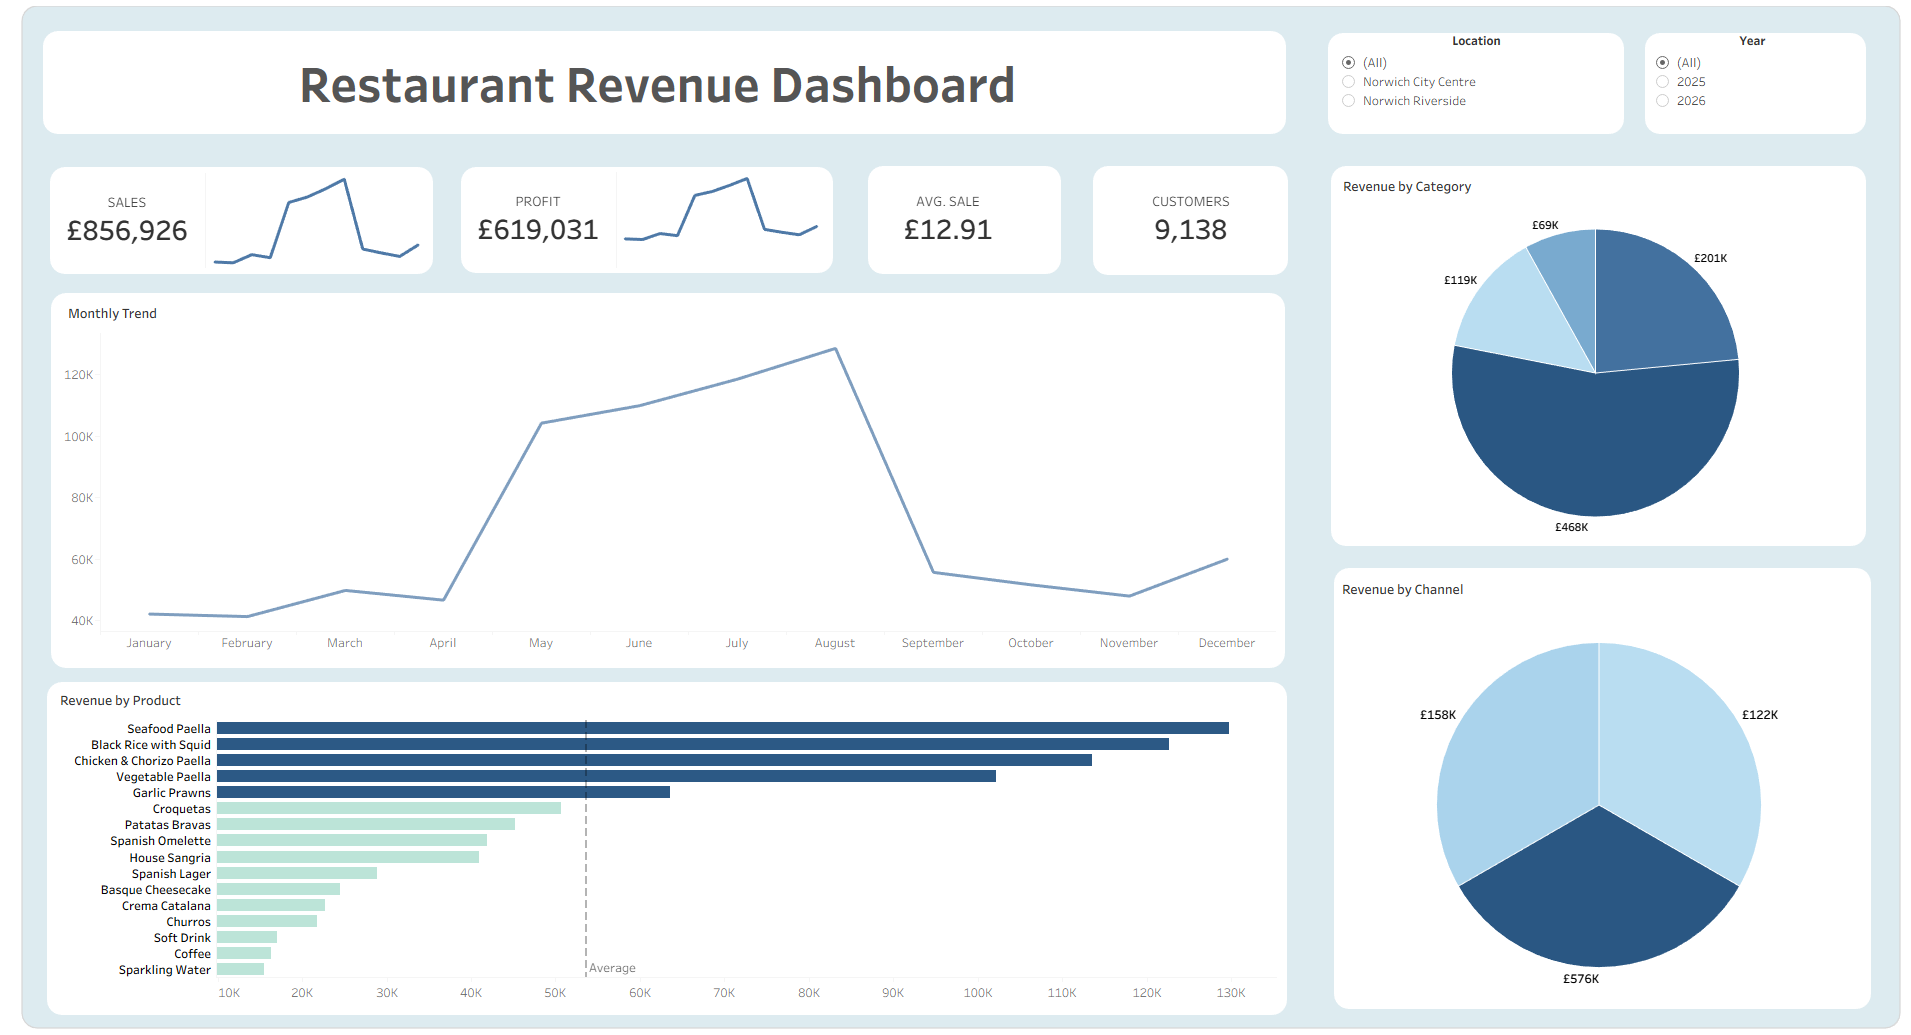

What the dashboard file says about the page in this screenshot:
{"tool":"tableau","page":{"name":"Dashboard 1","canvas":[1000,1000],"units":"permille","ordinal":0},"visuals":[{"type":"worksheet","title":"Dash Back","mark":"Automatic","box":[4.7,8.9,990.6,982.1]},{"type":"filter","title":"Sheet 10","param":"[federated.0envmzm1w9pdoq1bfpfxa0l7rede].[none:location:nk]","box":[695.1,32.5,150.4,99.3]},{"type":"filter","title":"Sheet 10","param":"[federated.0envmzm1w9pdoq1bfpfxa0l7rede].[yr:order_date:ok]","box":[859,32.5,111.2,99.3]},{"type":"text","box":[25.2,49.2,637.8,68.9]},{"type":"worksheet","title":"PROFIT","mark":"Automatic","box":[243.4,165.3,86.6,99.4]},{"type":"worksheet","title":"PRF. VIS","mark":"Line","rows":["gross_profit"],"cols":["order_date"],"box":[330,165.3,103.6,99.4]},{"type":"worksheet","title":"SALES KPI","mark":"Automatic","box":[29.3,166.3,86.6,98.4]},{"type":"worksheet","title":"REV. VIS","mark":"Line","rows":["revenue"],"cols":["order_date"],"box":[115.9,166.3,110.5,98.4]},{"type":"worksheet","title":"AVG SALE","mark":"Automatic","box":[456.4,166.3,91.9,97.4]},{"type":"worksheet","title":"CAT PIE","mark":"Pie","box":[696.9,166.3,271.5,357.3]},{"type":"worksheet","title":"CUSTOMERS","mark":"Automatic","box":[574,169.3,96,90.5]},{"type":"worksheet","title":"Sheet 10","mark":"Line","rows":["revenue"],"cols":["month"],"box":[32.8,287.4,635.5,349.4]},{"type":"worksheet","title":"Sheet 11","mark":"Pie","box":[696.3,550.2,276.2,412.4]},{"type":"worksheet","title":"PRO. REV","mark":"Bar","rows":["product"],"cols":["revenue"],"box":[28.7,656.5,640.1,312]}]}

Visuals, with their boxes on the dashboard's canvas, which has no fixed pixel size, in thousandths of its width and height (x1, y1, x2, y2). These are canvas units, not pixel positions in the 1911x1035 screenshot, which may show the page scaled, cropped or inside an application window:
"Dash Back" worksheet: [5,9,995,991]
"Sheet 10" filter: [695,32,846,132]
"Sheet 10" filter: [859,32,970,132]
text: [25,49,663,118]
"PROFIT" worksheet: [243,165,330,265]
"PRF. VIS" worksheet (Line marks): [330,165,434,265]
"SALES KPI" worksheet: [29,166,116,265]
"REV. VIS" worksheet (Line marks): [116,166,226,265]
"AVG SALE" worksheet: [456,166,548,264]
"CAT PIE" worksheet (Pie marks): [697,166,968,524]
"CUSTOMERS" worksheet: [574,169,670,260]
"Sheet 10" worksheet (Line marks): [33,287,668,637]
"Sheet 11" worksheet (Pie marks): [696,550,972,963]
"PRO. REV" worksheet (Bar marks): [29,656,669,968]
